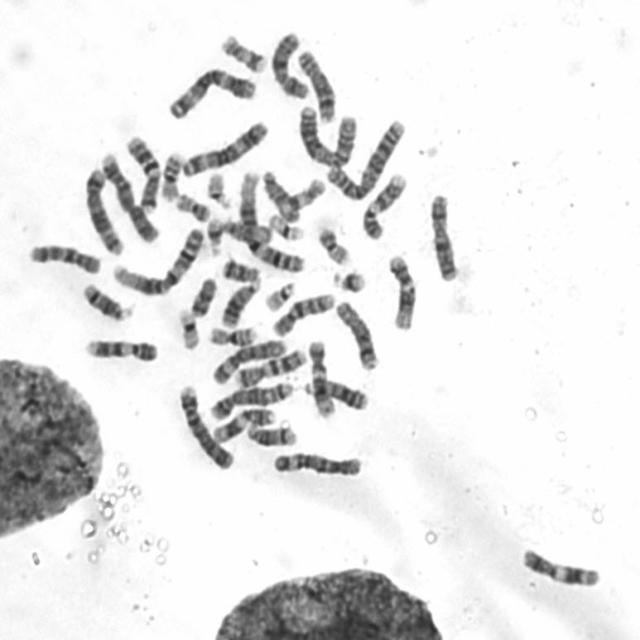A1: (234, 166, 307, 274), (108, 222, 207, 296)
A2: (322, 112, 408, 201), (294, 99, 360, 169)
A3: (177, 114, 272, 178), (163, 61, 259, 121)
B4: (97, 146, 161, 245), (175, 379, 236, 472)
B5: (81, 162, 127, 256), (206, 376, 296, 421)
C10: (268, 287, 338, 338), (25, 237, 103, 276)
C11: (516, 542, 604, 589), (210, 402, 280, 444)
C12: (384, 250, 420, 332), (304, 334, 336, 420)
C6: (207, 332, 288, 387), (268, 446, 365, 479)
C7: (232, 344, 309, 388), (122, 130, 162, 213)
C8: (332, 295, 383, 372), (292, 43, 338, 124)
C9: (358, 168, 410, 240), (80, 332, 161, 363)
D13: (300, 374, 371, 411), (219, 274, 263, 328)
D14: (79, 276, 135, 322), (242, 418, 299, 448)
D15: (258, 165, 302, 224), (218, 214, 273, 244)
E16: (156, 146, 184, 202), (204, 320, 260, 347)
E17: (217, 29, 269, 74), (283, 173, 327, 212)
E18: (187, 271, 220, 319), (218, 254, 262, 283)
F19: (265, 208, 306, 242), (174, 303, 202, 352)
F20: (313, 220, 353, 266), (171, 188, 213, 223)
G21: (328, 265, 368, 294), (202, 212, 225, 256)
G22: (261, 276, 297, 313), (203, 167, 233, 210)
X: (426, 187, 462, 283), (268, 26, 312, 100)
